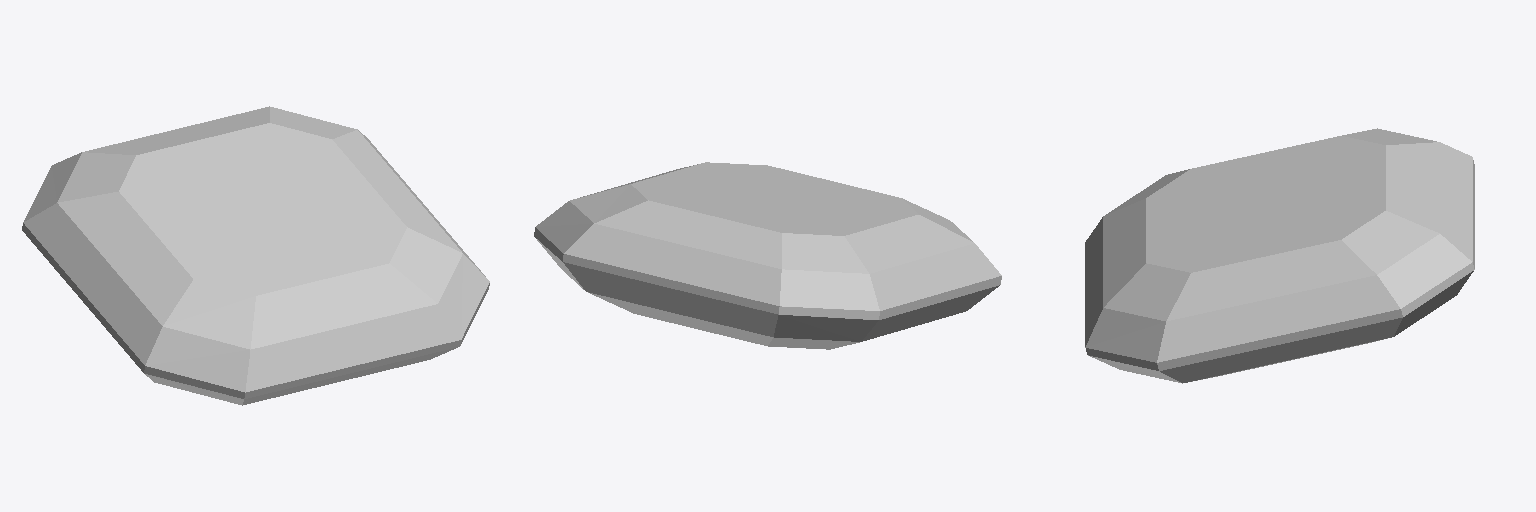
Rendered from green.obj.
3 views of the same model, side by side, from view 1: azimuth 30°, elevation 25°; view 2: azimuth 150°, elevation 25°; view 3: azimuth 270°, elevation 25° (orthographic).
Parts seen in each view (by area): view 1: Gemstone_03.002; view 2: Gemstone_03.002; view 3: Gemstone_03.002.
Part boxes in pixels (left/top/right/bottom): Gemstone_03.002: left=22, top=106, right=489, bottom=405; Gemstone_03.002: left=534, top=162, right=1001, bottom=349; Gemstone_03.002: left=1085, top=128, right=1474, bottom=383.
Bounding box in the file's own units: 0.8924 × 0.3863 × 0.8724.